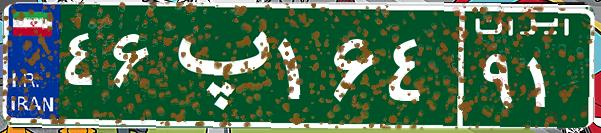1: (273, 28, 330, 110), (525, 38, 570, 115)
4: (385, 28, 445, 110), (57, 26, 110, 107)
6: (330, 28, 385, 110), (110, 28, 158, 105)
9: (475, 38, 525, 113)
پ: (158, 15, 273, 115)
